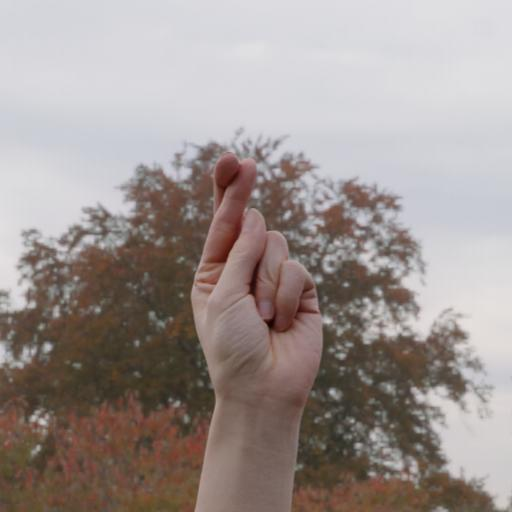R: (184, 148, 338, 431)
